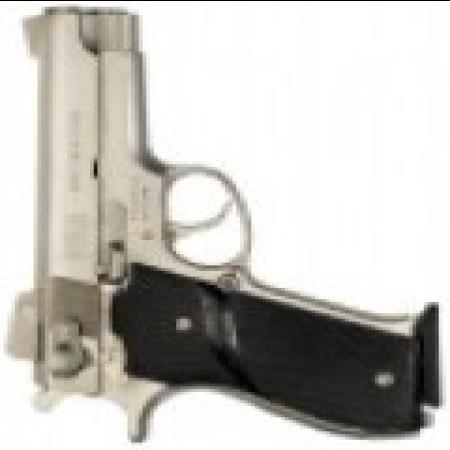Pistol: (15, 3, 443, 433)
